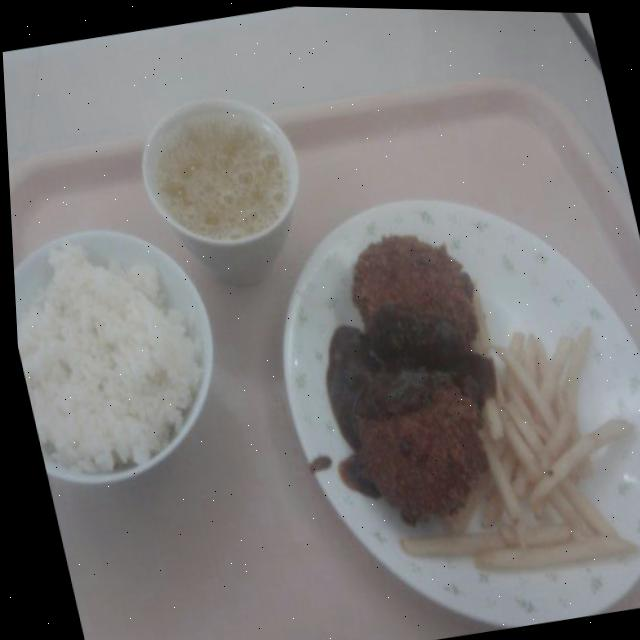炸货点心: (334, 250, 640, 617), (296, 206, 520, 532)
米饭主食: (8, 199, 243, 512)
